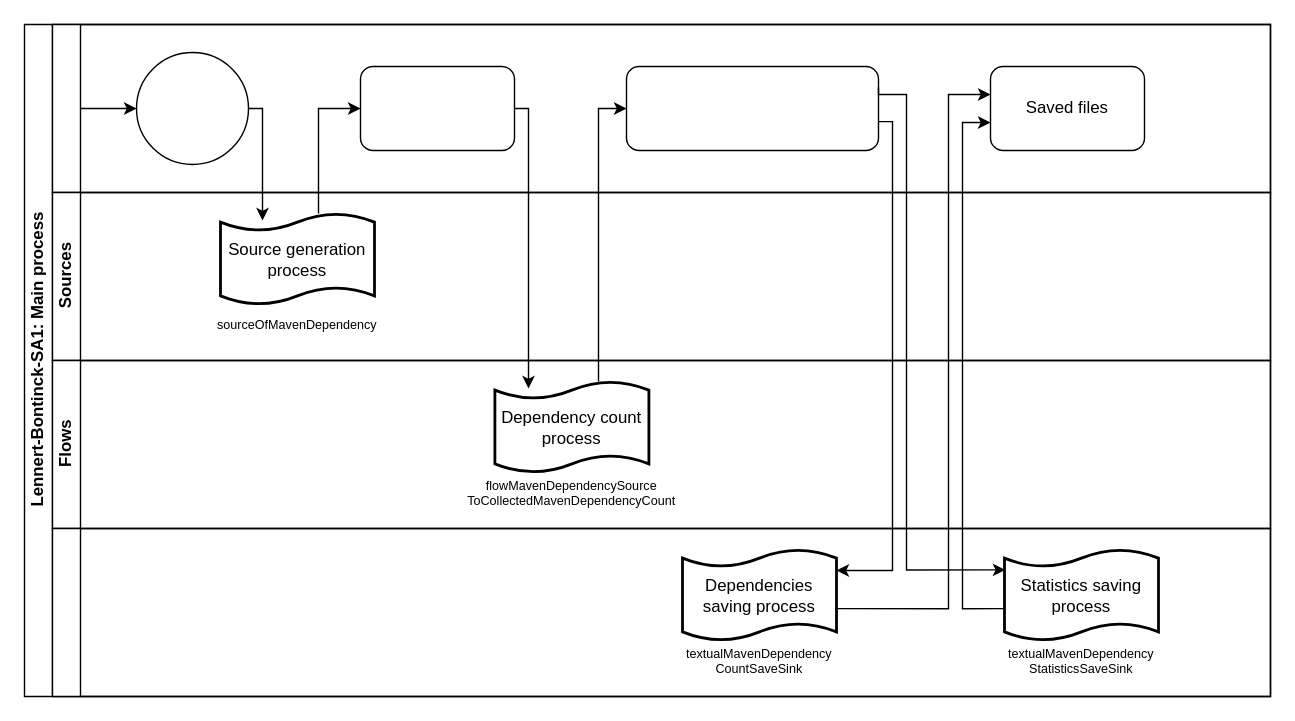
Some shapes in this 1295 by 721 pixel diagram are drawn without their labels. Each missing label, with the box of its shape:
Main: (51, 23, 1270, 192)
MavenDependency objects source: (359, 65, 514, 150)
MavenDependencyCount objects from computation: (625, 65, 878, 150)
Sinks: (51, 527, 1270, 696)
